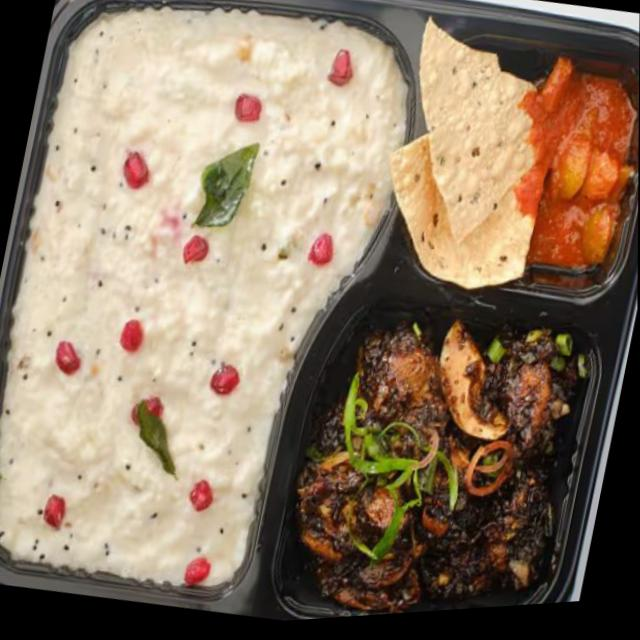CURD RICE: (0, 2, 411, 584)
CURRY: (272, 306, 576, 608)
PAPADAM: (392, 14, 535, 291)
PICKLE: (528, 78, 639, 273)
